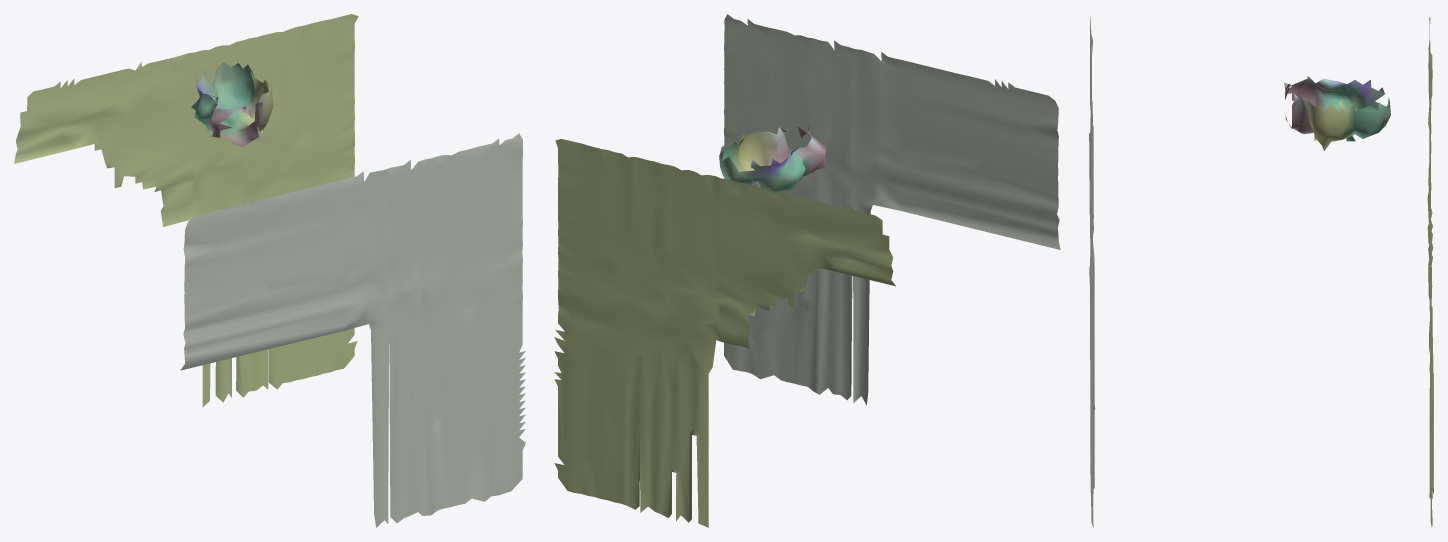
Rendered from tile_7e4ccbd5fe0e_0_-1_-1_0_lod2.glb.
3 renders of one model, left to right at view 1: azimuth 30°, elevation 25°; view 2: azimuth 150°, elevation 25°; view 3: azimuth 270°, elevation 25°, orthographic. The views are drawn at different scales.
Size of the model in its own units: 4.08 by 4.08 by 3.5.
